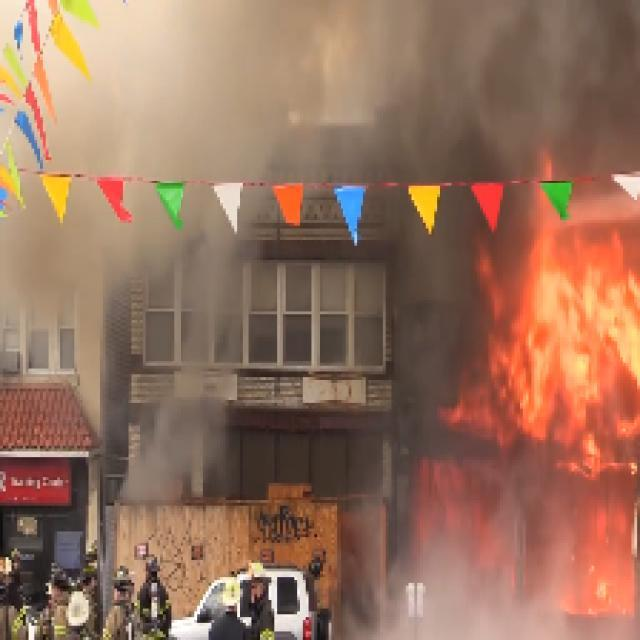Fire: (482, 260, 640, 418)
Smoke: (56, 16, 305, 216), (449, 0, 636, 248)
